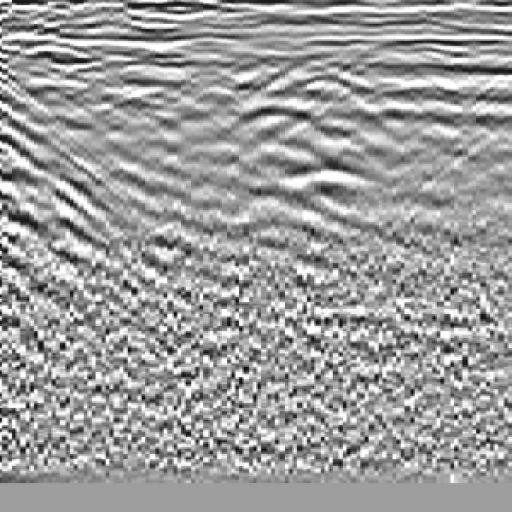metalic: (235, 42, 395, 280)
nonmetalic: (1, 27, 107, 286)
